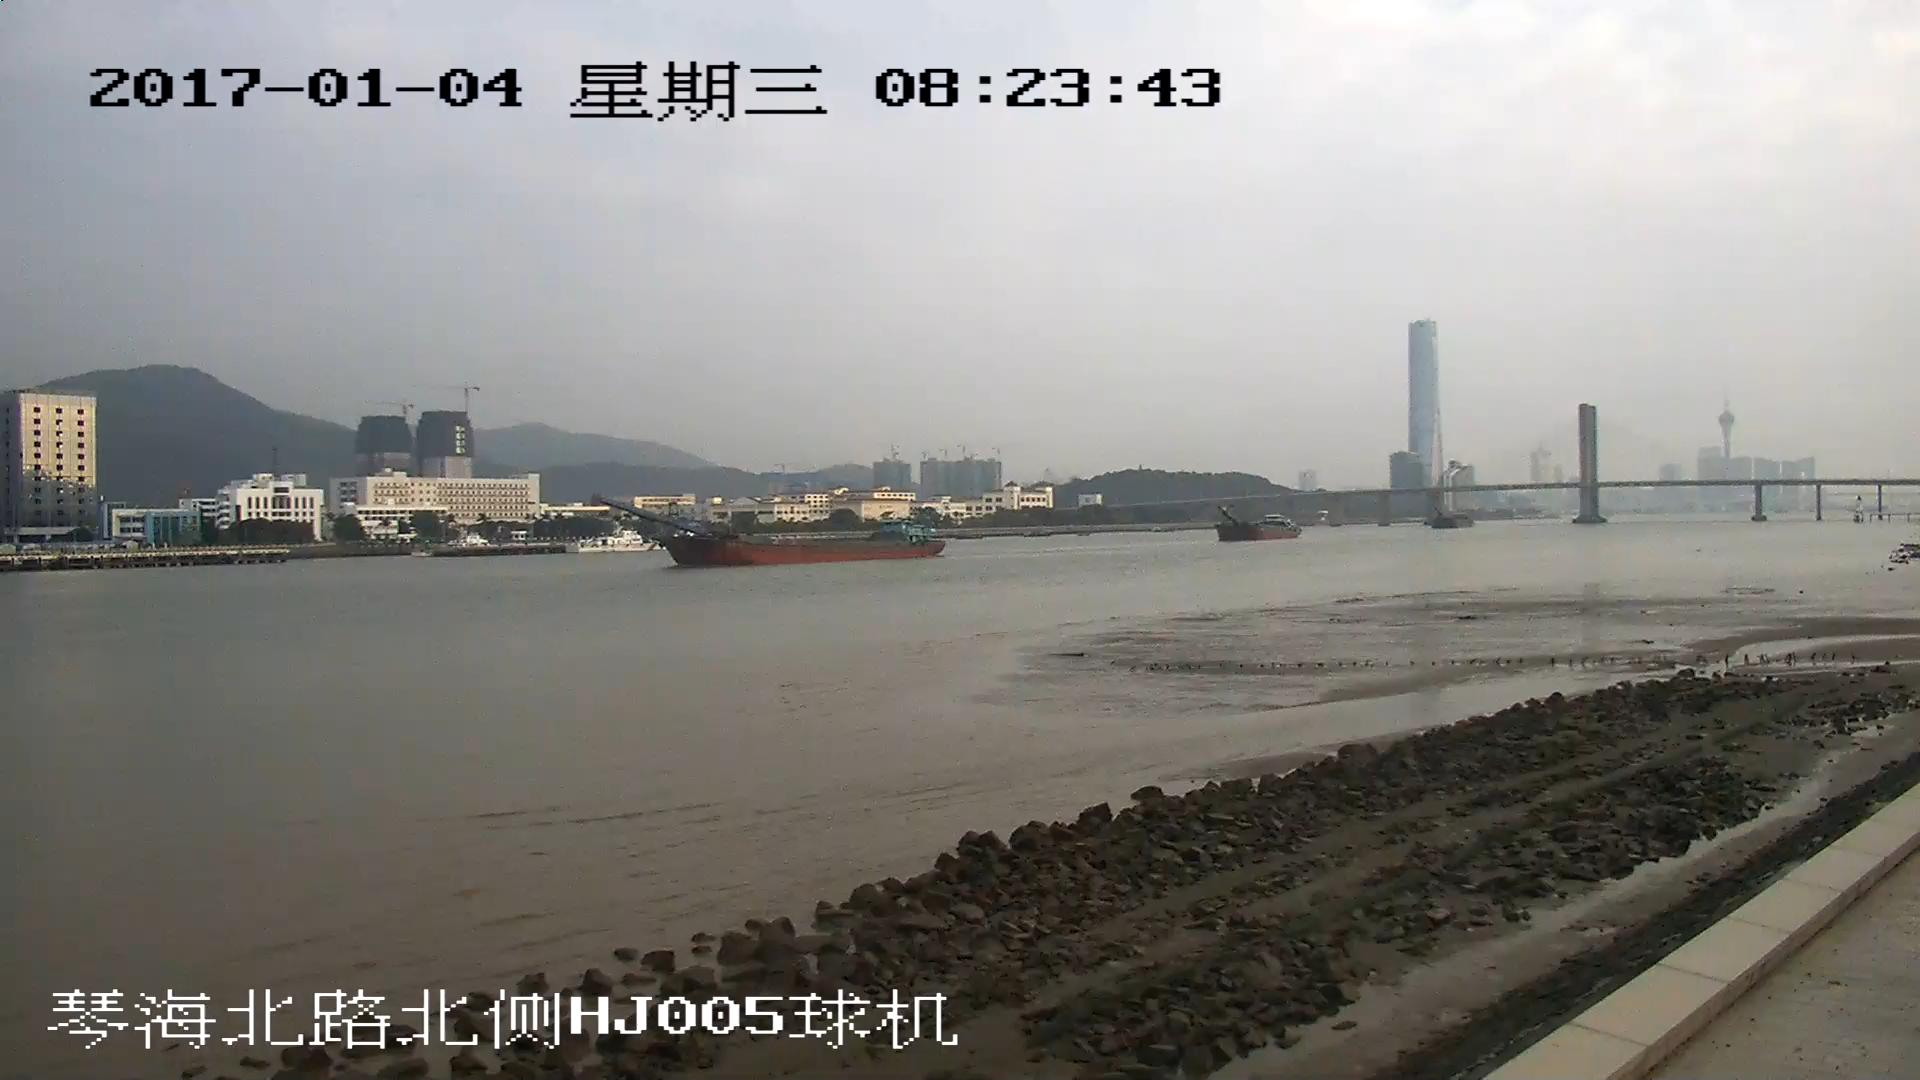bulk cargo carrier: (602, 495, 946, 557), (1216, 507, 1301, 540)
